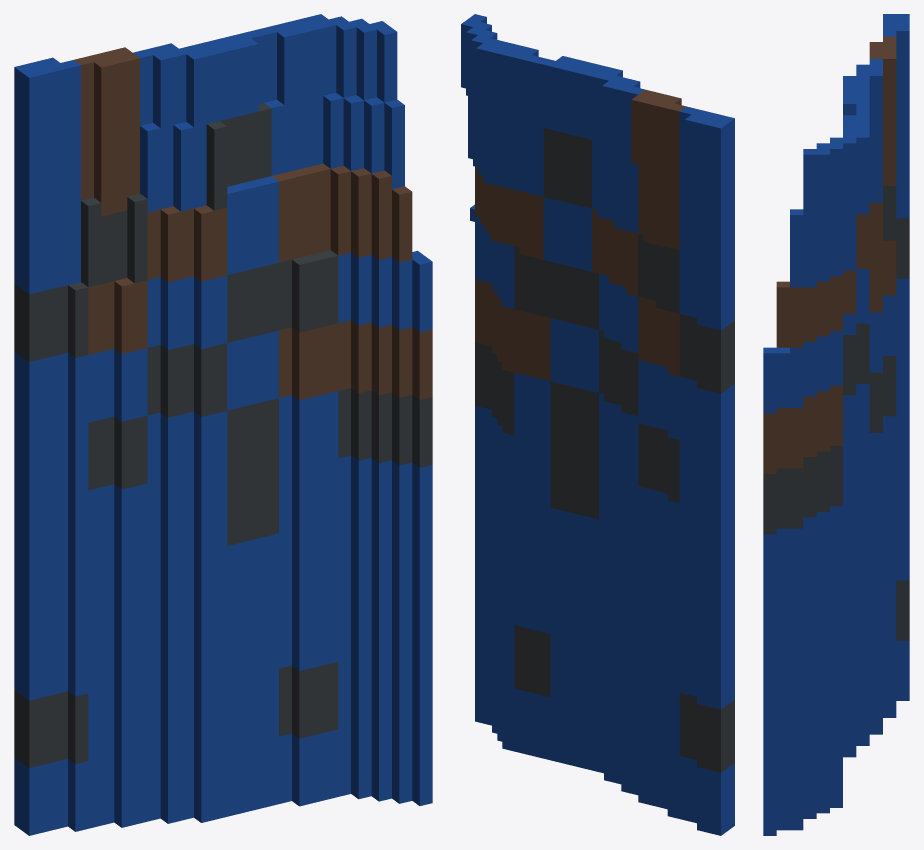
Rendered from overturned_delivery_van_bonnet.glb.
3 views of the same model, side by side, from view 1: azimuth 30°, elevation 25°; view 2: azimuth 150°, elevation 25°; view 3: azimuth 270°, elevation 25° (orthographic). The views are drawn at different scales.
Visible parts, largest first — view 1: body:compound; view 2: body:compound; view 3: body:compound.
Boxes of the visible parts, x1,y1,x2,y2 form: body:compound: (14, 14, 432, 835); body:compound: (461, 14, 734, 835); body:compound: (763, 14, 909, 835).
Bounding box in the file's own units: 0.8125 × 1.75 × 0.3438.
